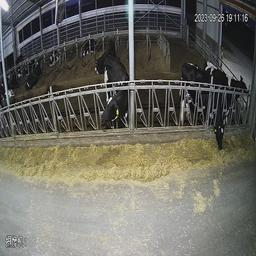cow: (177, 57, 227, 161), (200, 44, 251, 111), (104, 52, 131, 153), (21, 52, 44, 91), (99, 33, 121, 73), (77, 30, 98, 60), (47, 43, 64, 69)
